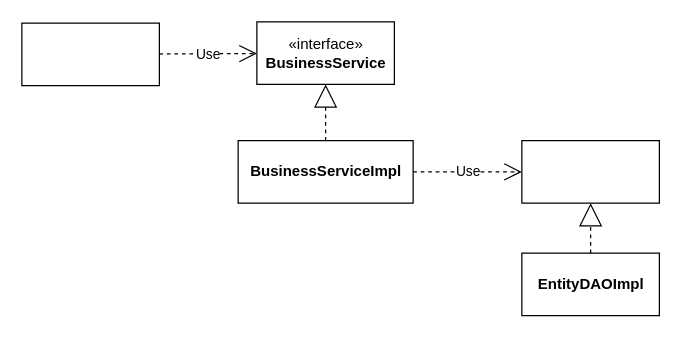
This 681x338 diagram has some shape labels left out. Each missing label, with the centre of its shape:
"Controller" belongs at (90,54).
"«interface» EntityDAO" belongs at (590,171).
